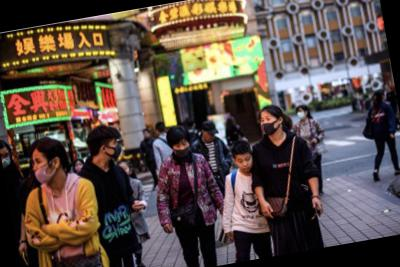mask_weared_incorrect: (30, 153, 56, 186)
with_mask: (171, 136, 193, 161), (259, 111, 282, 134), (103, 139, 124, 162), (1, 149, 13, 167), (295, 107, 308, 121)
without_mask: (235, 153, 256, 172), (205, 129, 216, 142)
